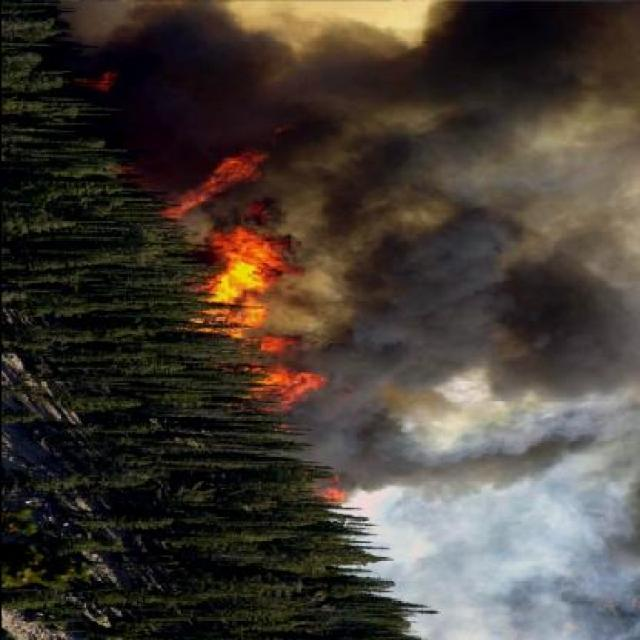Fire: (118, 146, 322, 414), (87, 62, 120, 92), (325, 482, 347, 508)
Smoke: (326, 0, 640, 640)
